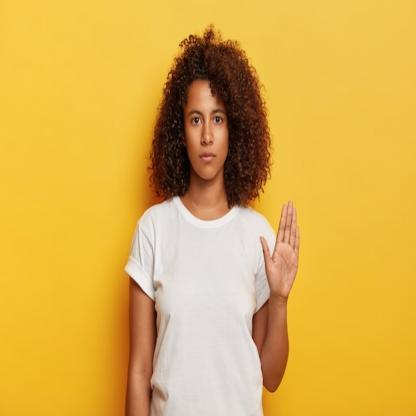stop: (258, 197, 306, 299)
